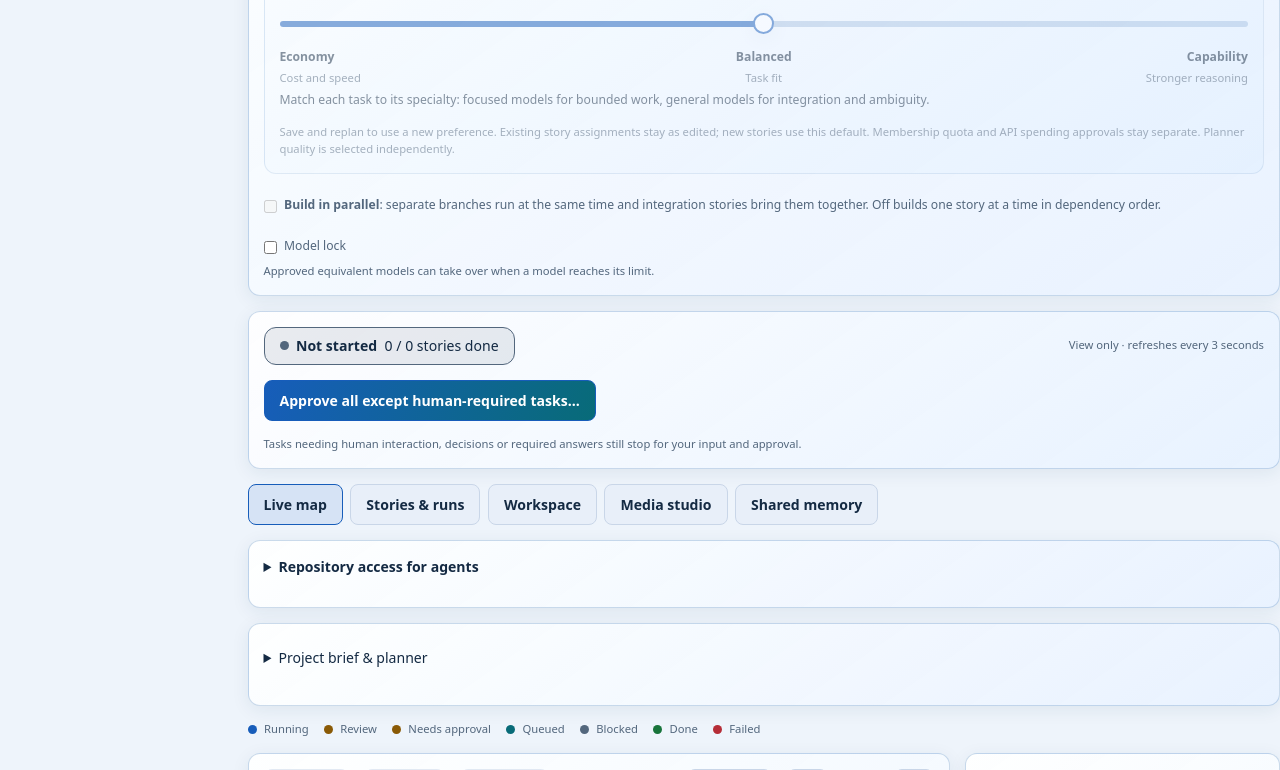
it: shows the bulk scope and requires acknowledgment before enabling automatic handoffs
This screenshot has width=1280, height=770.
(page scrolled)
Click the button "Approve all except human-required tasks…": (430, 400) [264,380,596,421]
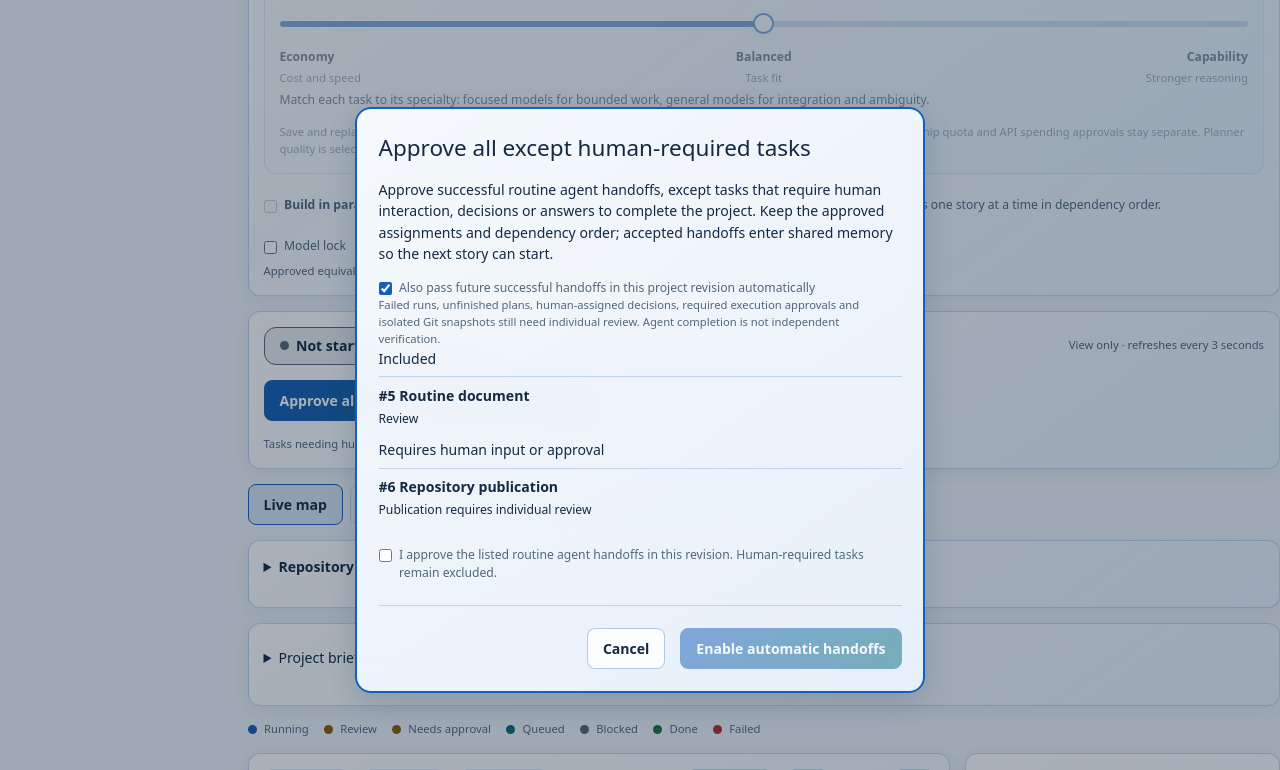
Expected: the dialog shows "Routine document", [378,386,530,405]
Expected: the button "Enable automatic handoffs" is disabled, [680,628,902,669]
Click the 2nd checkbox: (385, 556) [378,549,392,562]
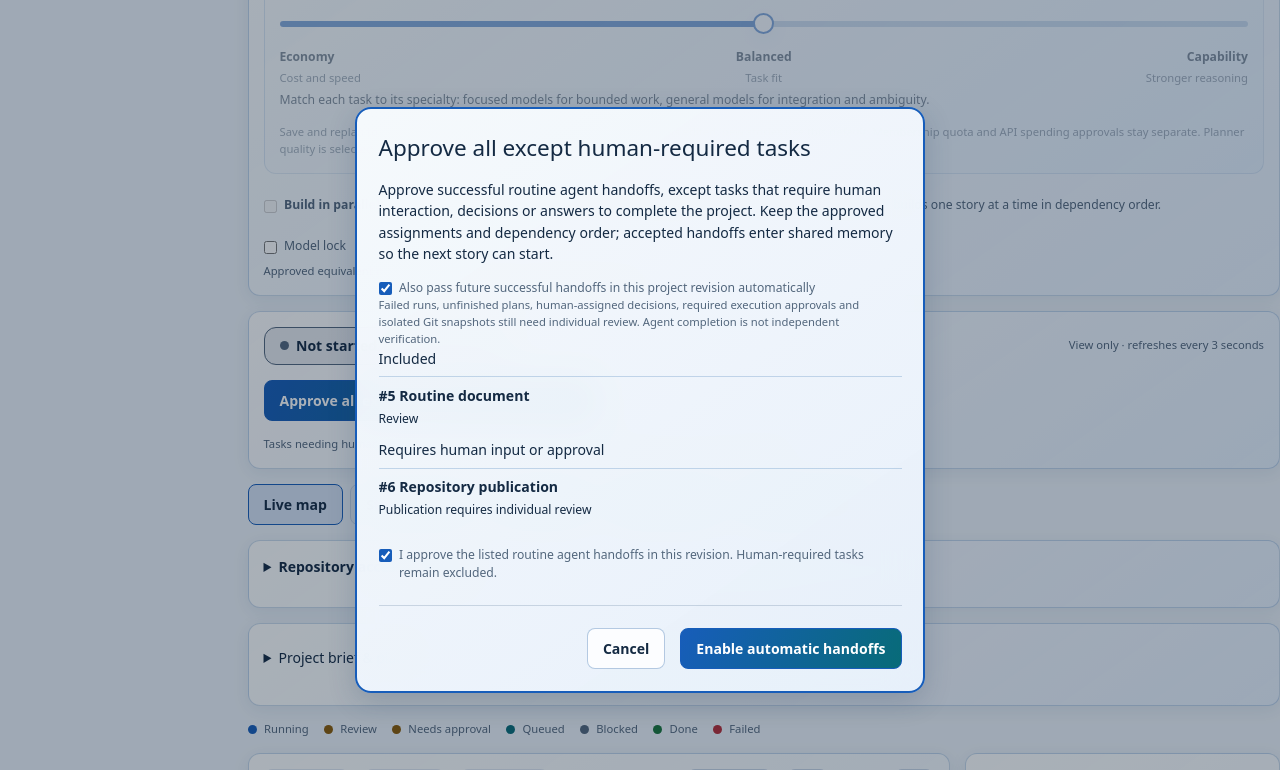
Submit the form, box [378,131,902,669]
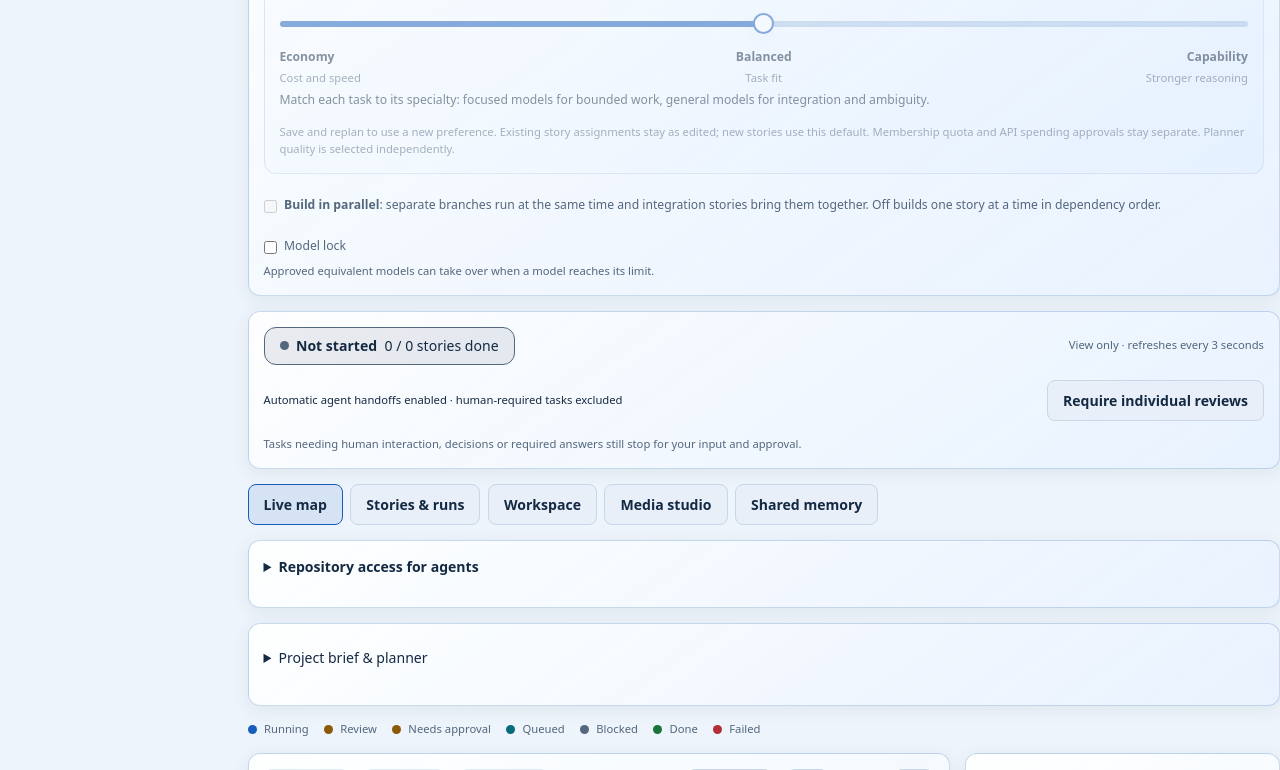
Expected: the text "Automatic agent handoffs enabled" is shown, [264,392,622,407]
